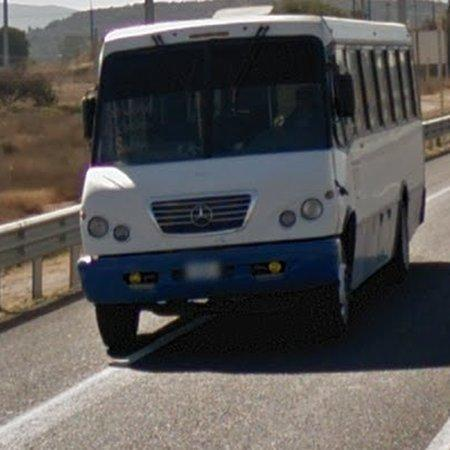buses: (78, 7, 427, 357)
